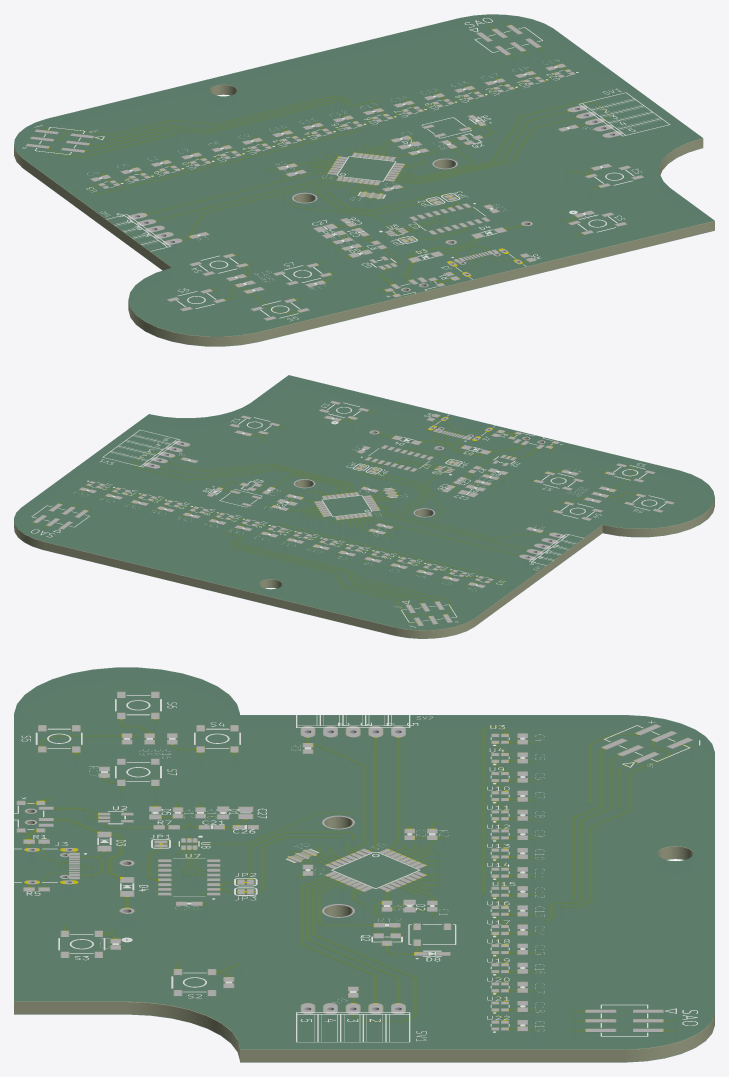
The model's file is beepbadge.glb.
3 views of the same model, one above another, from view 1: azimuth 30°, elevation 25°; view 2: azimuth 150°, elevation 25°; view 3: azimuth 270°, elevation 25° (orthographic). The views are drawn at different scales.
Parts seen in each view (by area): view 1: =>[0:1:1:7], =>[0:1:1:9], =>[0:1:1:2], =>[0:1:1:5]; view 2: =>[0:1:1:7], =>[0:1:1:9], =>[0:1:1:2], =>[0:1:1:5]; view 3: =>[0:1:1:7], =>[0:1:1:9], =>[0:1:1:2], =>[0:1:1:5].
Boxes of the visible parts, x1,y1,x2,y2 form: =>[0:1:1:7]: [14, 14, 714, 346]; =>[0:1:1:9]: [14, 15, 714, 346]; =>[0:1:1:2]: [26, 22, 643, 320]; =>[0:1:1:5]: [22, 18, 670, 321]; =>[0:1:1:7]: [14, 375, 714, 638]; =>[0:1:1:9]: [14, 376, 714, 638]; =>[0:1:1:2]: [32, 401, 673, 626]; =>[0:1:1:5]: [31, 402, 666, 627]; =>[0:1:1:7]: [14, 667, 714, 1062]; =>[0:1:1:9]: [14, 668, 714, 1061]; =>[0:1:1:2]: [17, 692, 692, 1031]; =>[0:1:1:5]: [14, 695, 700, 1042].
Bounding box in the file's own units: 0.1015 × 0.00166 × 0.0787.
4 materials, 4 textured.
